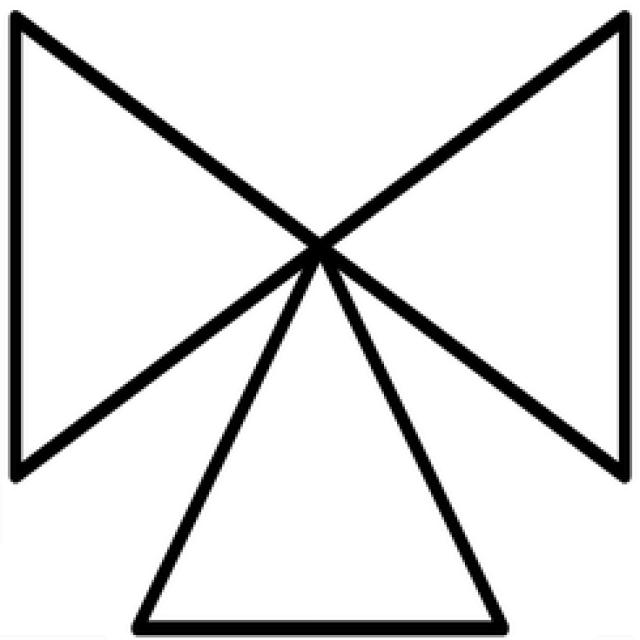3-way Valve: (15, 15, 627, 628)
